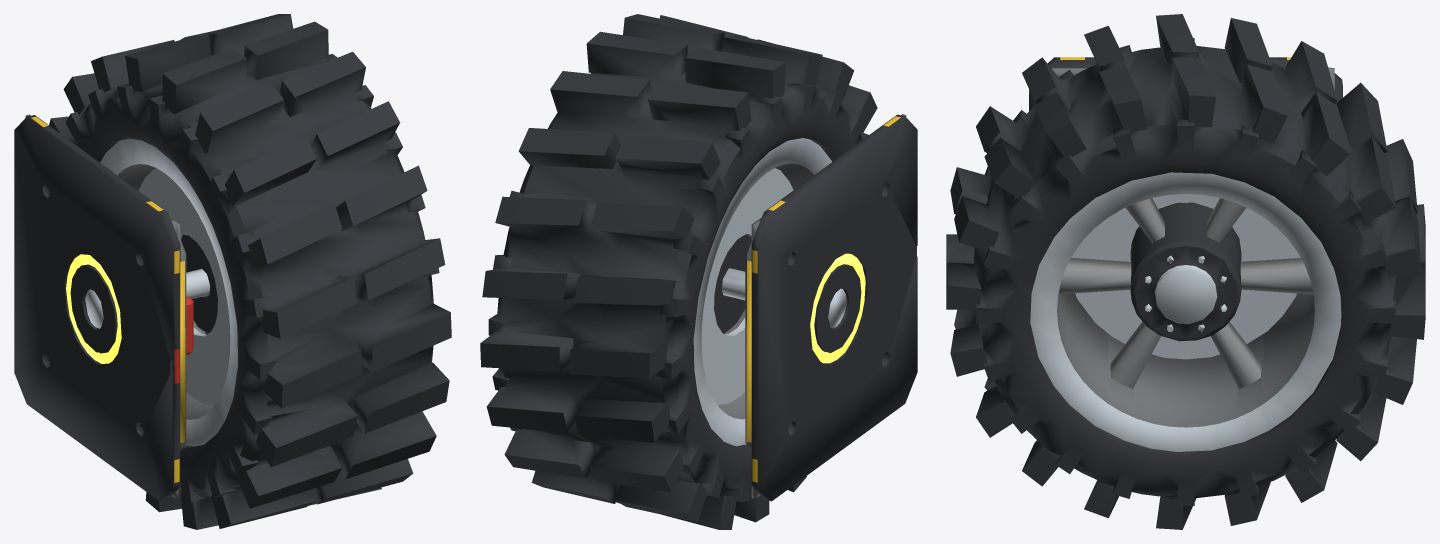
File: R4M_WheelM_Side_Offroad_LOD1.fbx
The picture shows the model from 3 angles, left to right: view 1: azimuth 30°, elevation 25°; view 2: azimuth 150°, elevation 25°; view 3: azimuth 270°, elevation 25°; orthographic projection.
Parts seen in each view (by area): view 1: R4M_WheelM_Side_Offroad_Rotor_LOD1, R4M_WheelM_Side_Offroad_Mount_LOD1; view 2: R4M_WheelM_Side_Offroad_Rotor_LOD1, R4M_WheelM_Side_Offroad_Mount_LOD1; view 3: R4M_WheelM_Side_Offroad_Rotor_LOD1, R4M_WheelM_Side_Offroad_Mount_LOD1.
Part boxes in pixels (left/top/right/bottom): R4M_WheelM_Side_Offroad_Rotor_LOD1: left=49, top=14, right=451, bottom=529; R4M_WheelM_Side_Offroad_Mount_LOD1: left=14, top=114, right=209, bottom=501; R4M_WheelM_Side_Offroad_Rotor_LOD1: left=480, top=14, right=877, bottom=529; R4M_WheelM_Side_Offroad_Mount_LOD1: left=721, top=114, right=917, bottom=501; R4M_WheelM_Side_Offroad_Rotor_LOD1: left=946, top=14, right=1425, bottom=529; R4M_WheelM_Side_Offroad_Mount_LOD1: left=1029, top=57, right=1342, bottom=206.
Size of the model in its own units: 0.452 by 0.7799 by 0.7799.
